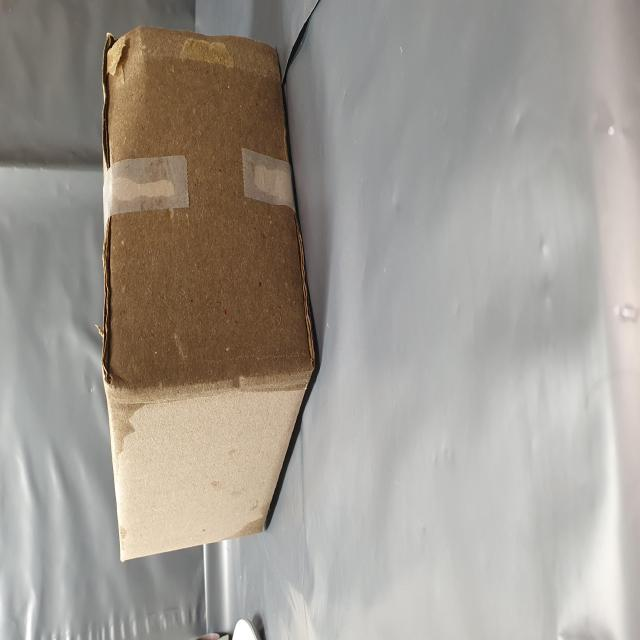wet: (104, 201, 240, 544), (270, 187, 342, 508)
